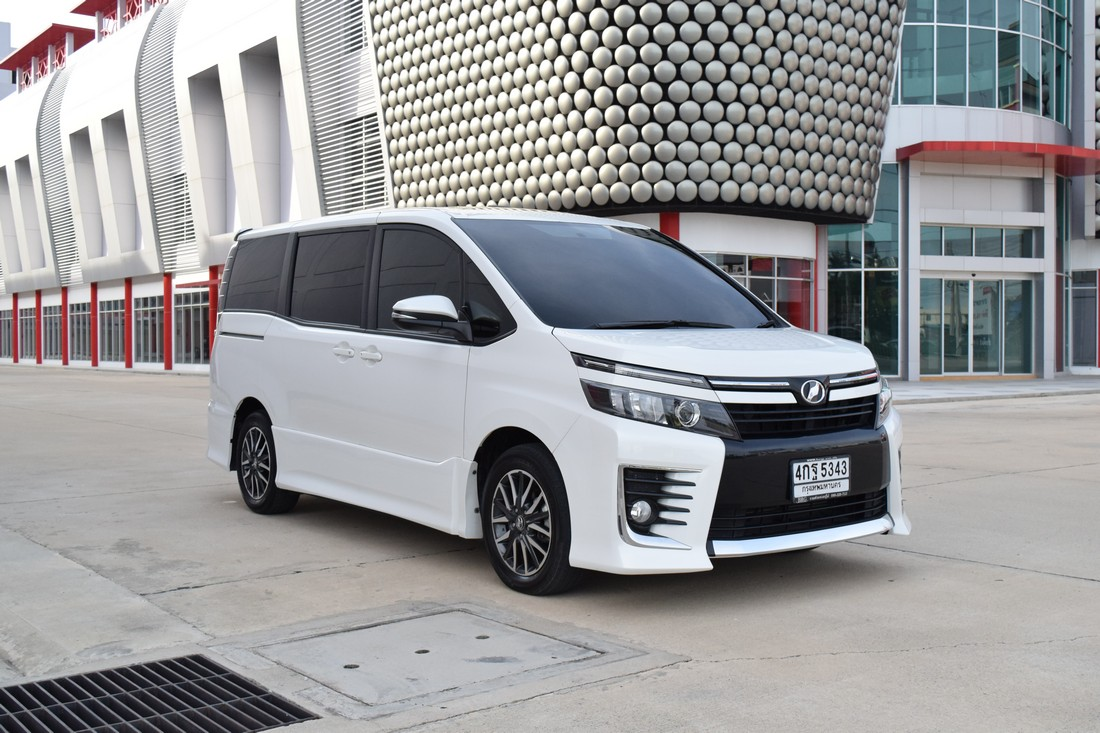van: (204, 206, 917, 596)
